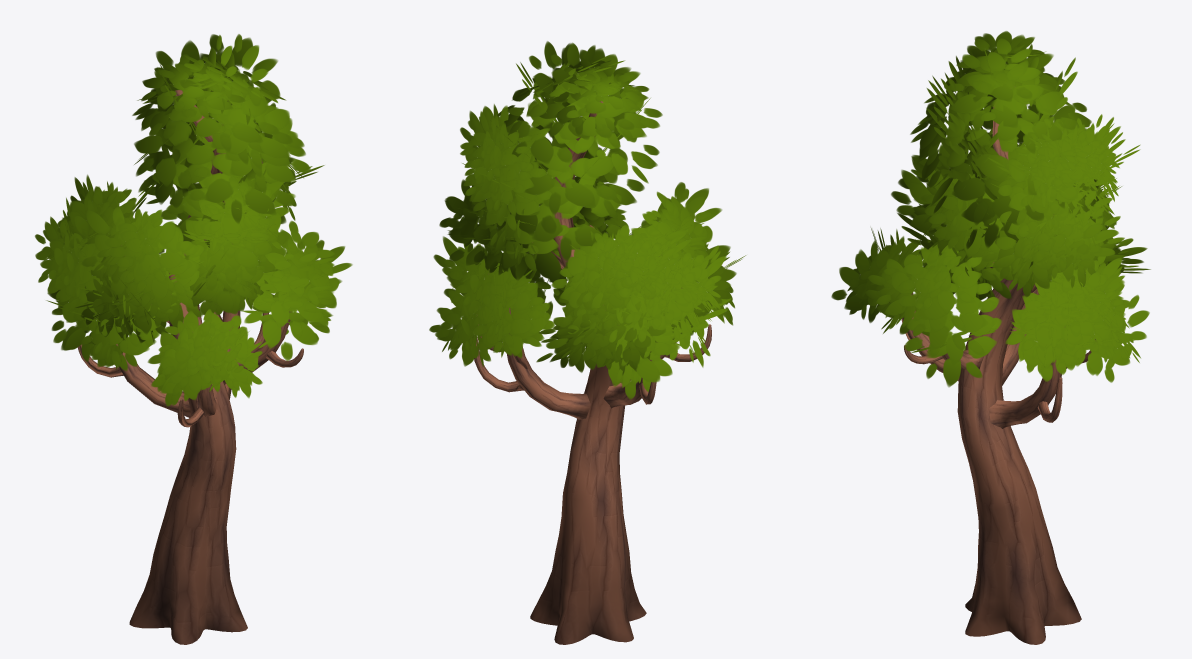
The model's file is tree-oak-2.glb.
3 renders of one model, left to right at view 1: azimuth 30°, elevation 25°; view 2: azimuth 150°, elevation 25°; view 3: azimuth 270°, elevation 25°, orthographic. The views are drawn at different scales.
Parts seen in each view (by area): view 1: CommonTree_2; view 2: CommonTree_2; view 3: CommonTree_2.
Boxes of the visible parts, box(x1,y1,x2,y2) form: CommonTree_2: box(35, 34, 352, 644); CommonTree_2: box(429, 41, 745, 644); CommonTree_2: box(831, 31, 1150, 644).
Size of the model in its own units: 4.46 by 7.64 by 4.28.
2 materials, 2 textured.
